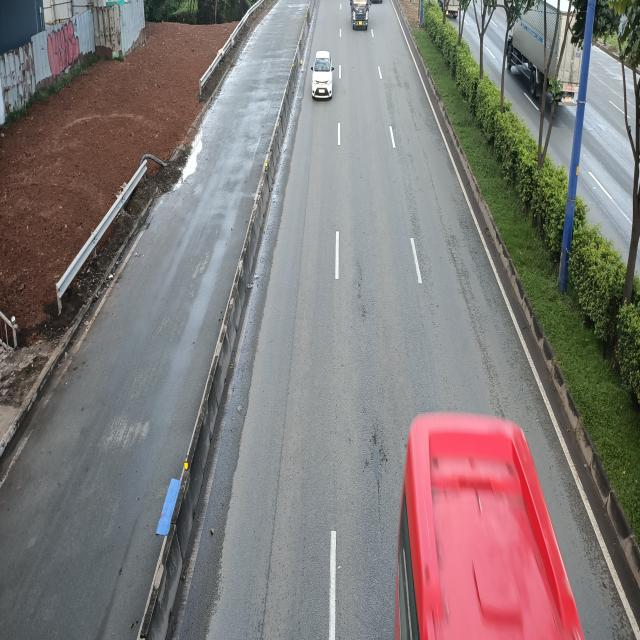car: (311, 51, 335, 101)
coach: (395, 413, 587, 640)
